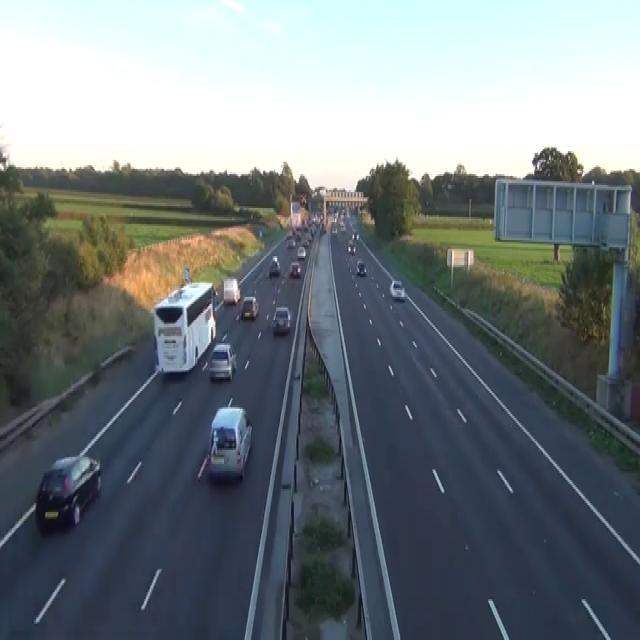Car: (35, 454, 101, 532), (206, 398, 252, 482), (207, 343, 237, 381), (272, 306, 291, 334), (240, 295, 259, 320), (389, 279, 405, 301), (269, 254, 280, 276), (289, 260, 301, 278), (356, 258, 366, 276), (296, 245, 306, 258), (347, 240, 356, 254), (286, 238, 295, 249), (319, 222, 326, 235), (351, 229, 359, 240), (331, 224, 337, 235), (295, 231, 301, 242), (339, 222, 346, 231), (301, 238, 308, 246), (350, 231, 355, 240), (286, 231, 292, 238), (355, 231, 359, 240), (259, 230, 262, 237)
Truck: (152, 281, 216, 375), (223, 277, 240, 306)
